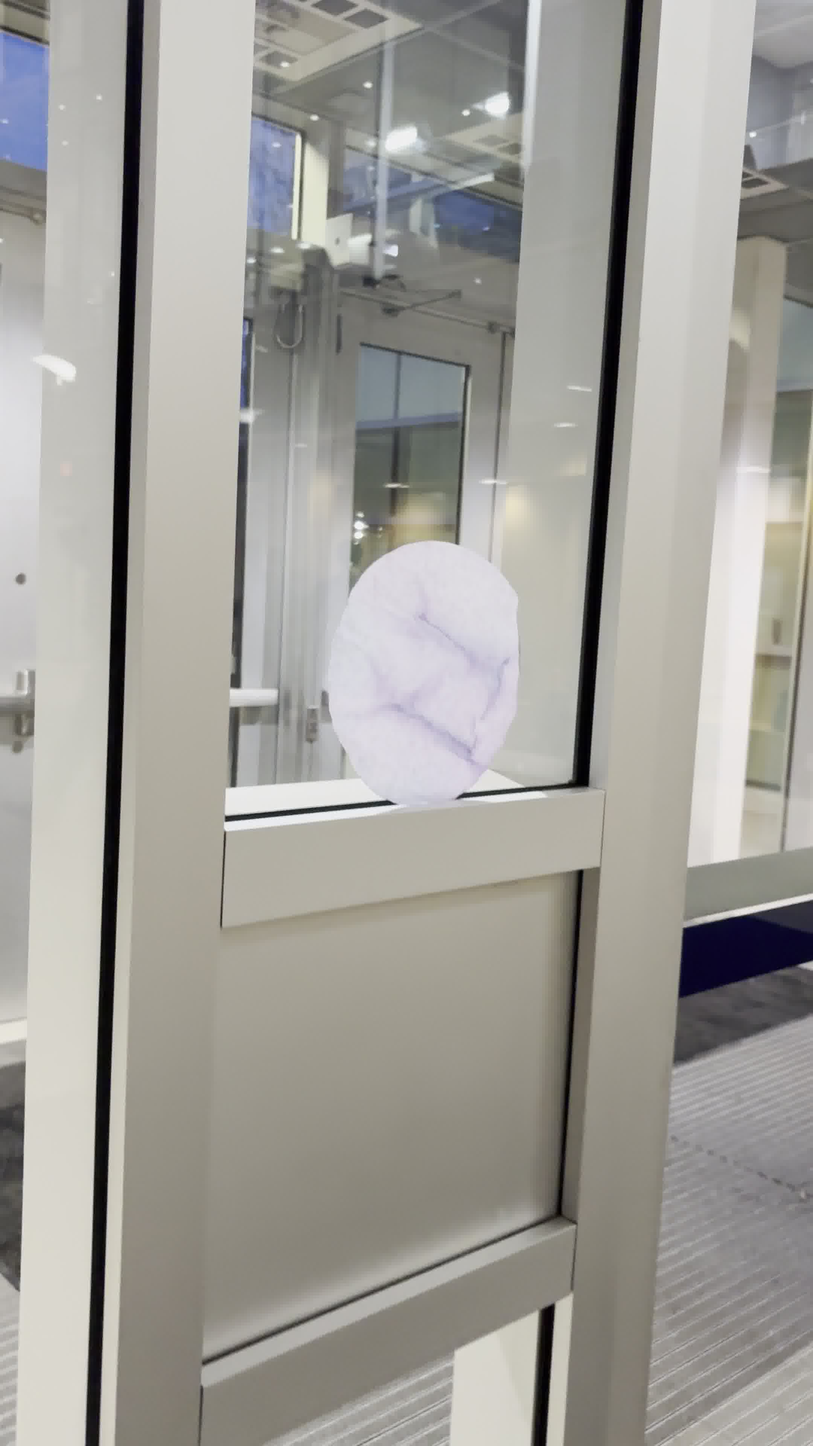Target: (325, 541, 521, 807)
